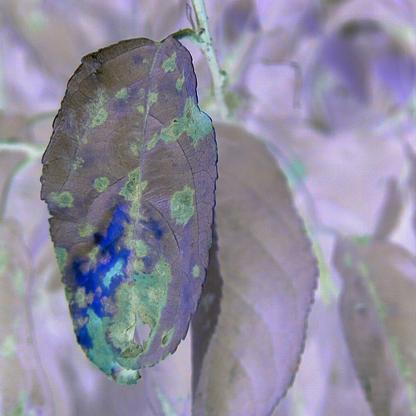Apple Scab Leaf: (36, 20, 227, 384)
